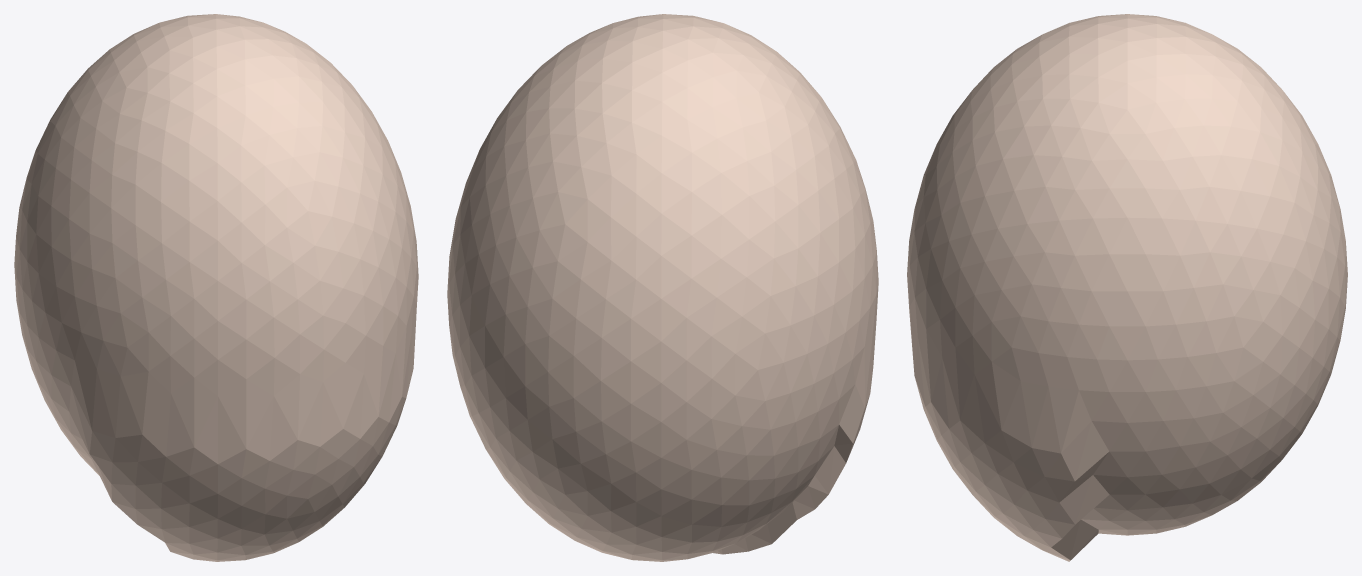
File: test_head.glb
3 views of the same model, side by side, from view 1: azimuth 30°, elevation 25°; view 2: azimuth 150°, elevation 25°; view 3: azimuth 270°, elevation 25° (orthographic). The views are drawn at different scales.
Visible parts, largest first — view 1: Head; view 2: Head; view 3: Head.
Boxes of the visible parts, <box> form: Head: <box>14,14,418,561</box>; Head: <box>447,14,878,561</box>; Head: <box>907,14,1347,561</box>.
Size of the model in its own units: 1.56 by 2.21 by 1.7.
